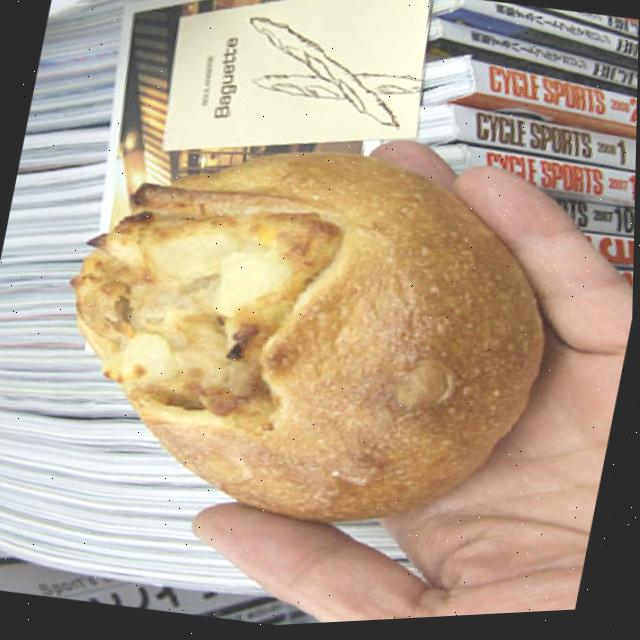三明治: (22, 94, 593, 584)
